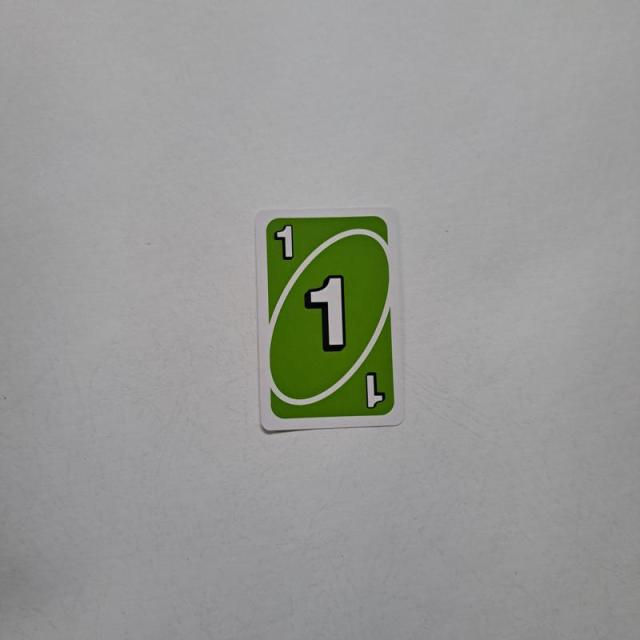Green_Card: (262, 212, 401, 422)
Number_1: (268, 218, 303, 266)
